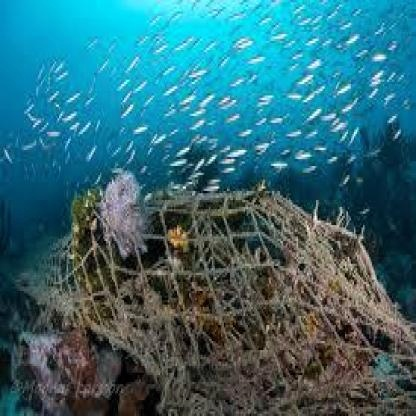net: (20, 186, 413, 416)
